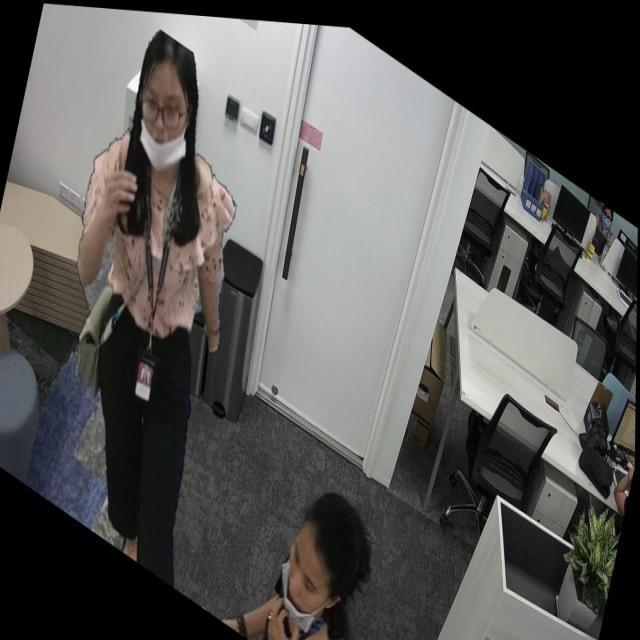hairnet: (131, 64, 196, 180), (274, 519, 332, 632)
